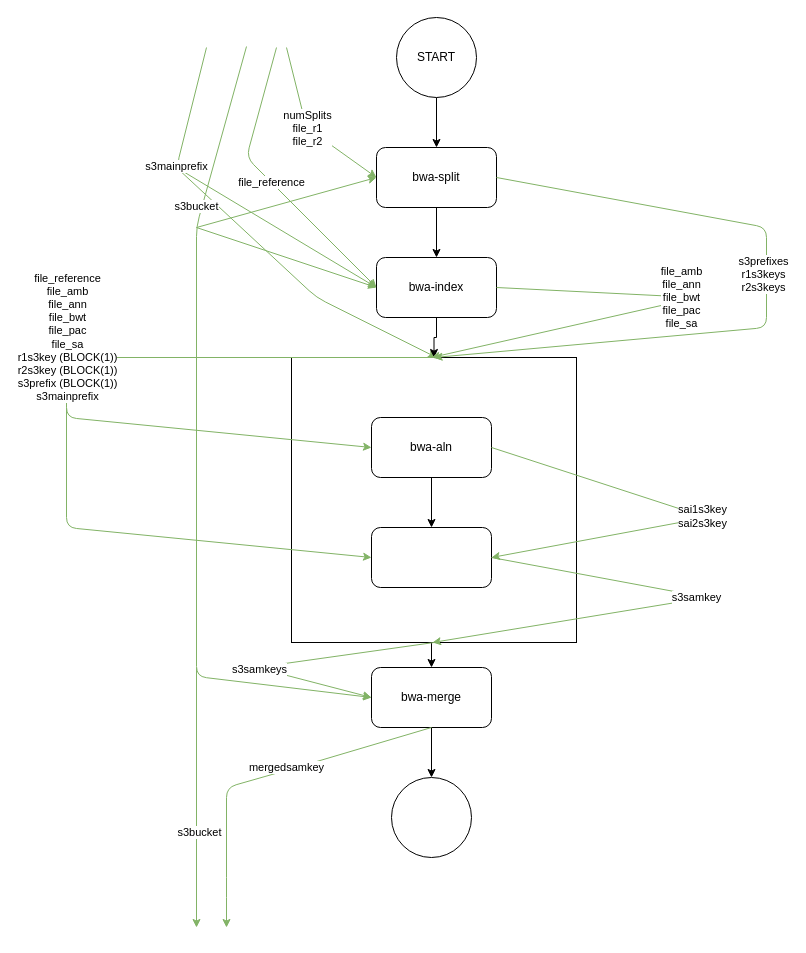
The diagram is 806 pixels wide and 953 high, and some of its shapes have lost their labels. The shapes that lost their labels are listed below. From the top down, each one's centre as x and y in pixels, then its label:
At (431,557): "bwa-sampe".
At (431,817): "END".
